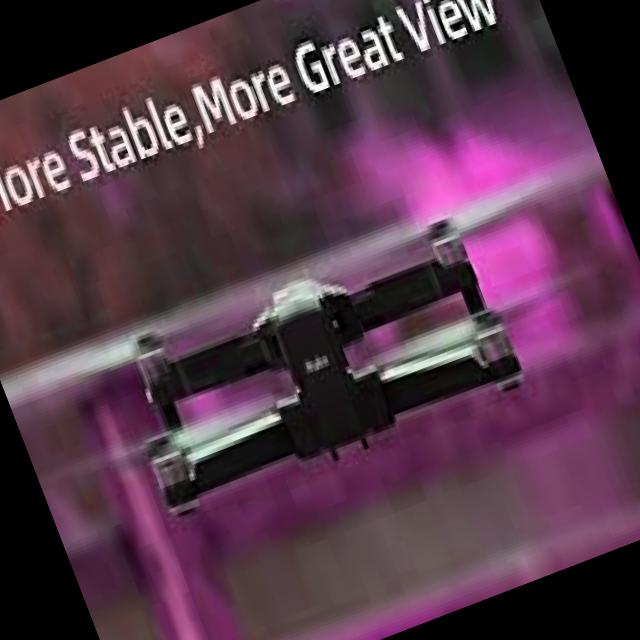drone: (43, 156, 622, 574)
